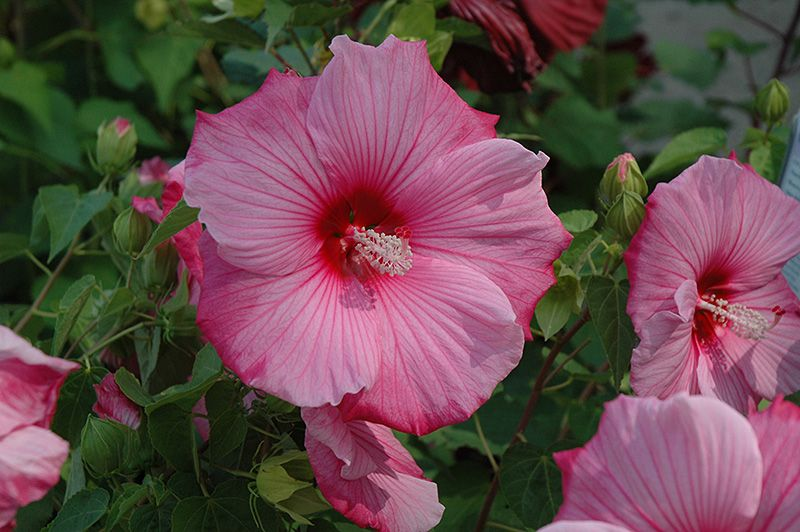Hibiscus: (174, 36, 577, 424), (568, 147, 794, 521)
